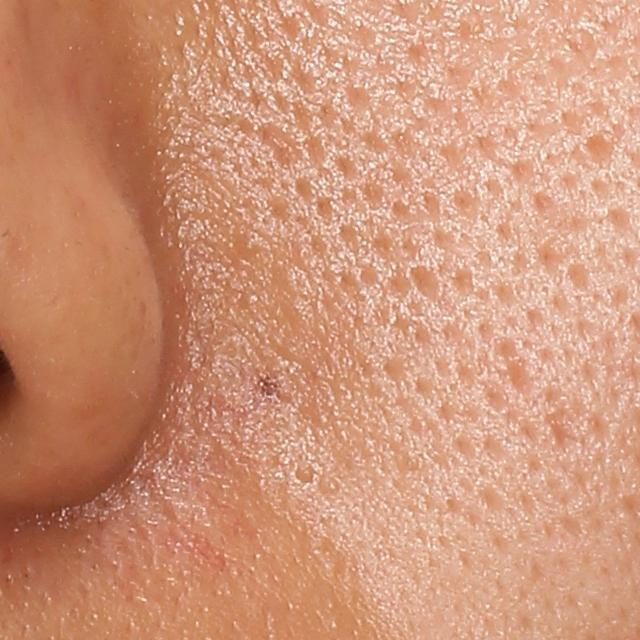atrophic_scar: (549, 25, 598, 86), (538, 383, 578, 452), (487, 339, 529, 398), (253, 126, 302, 171), (572, 132, 611, 171), (410, 265, 440, 302)
